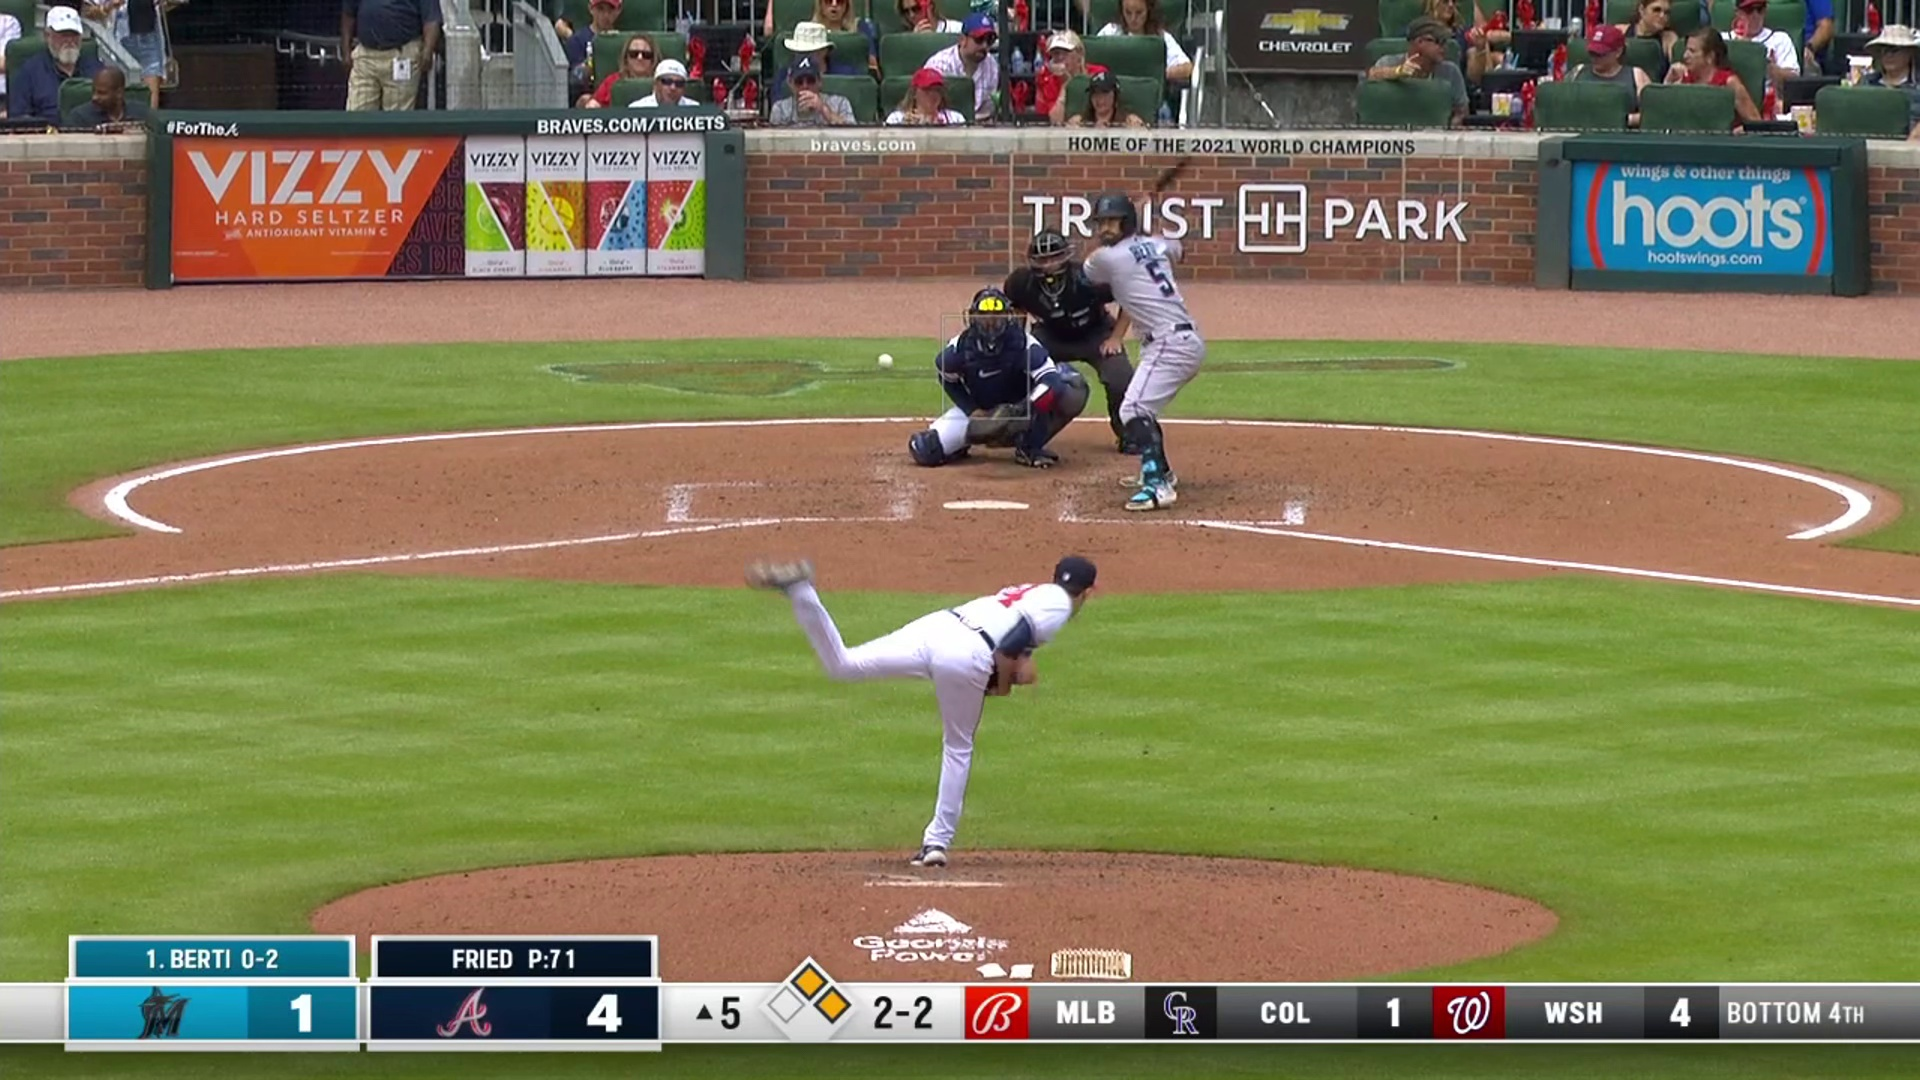baseball: (877, 352, 893, 371)
